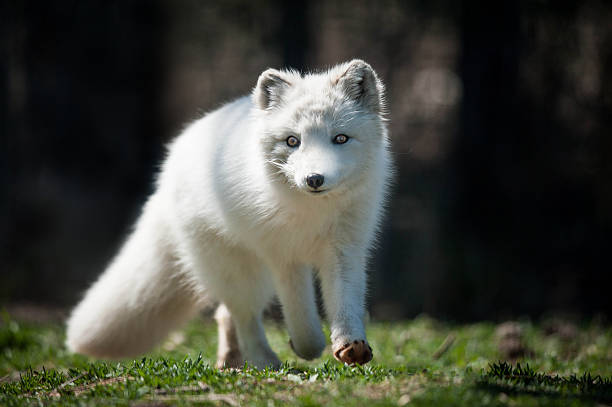arcticfox: (249, 99, 384, 217)
